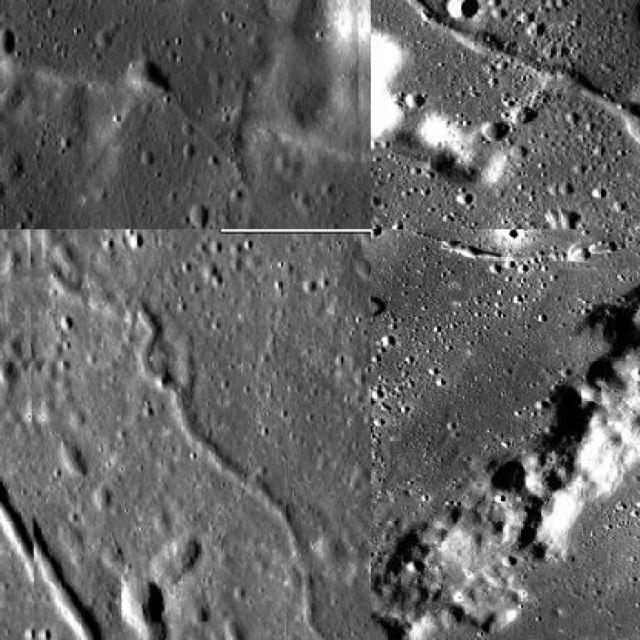rille: (44, 270, 336, 638), (394, 0, 638, 228), (0, 0, 254, 218), (0, 463, 192, 638)
